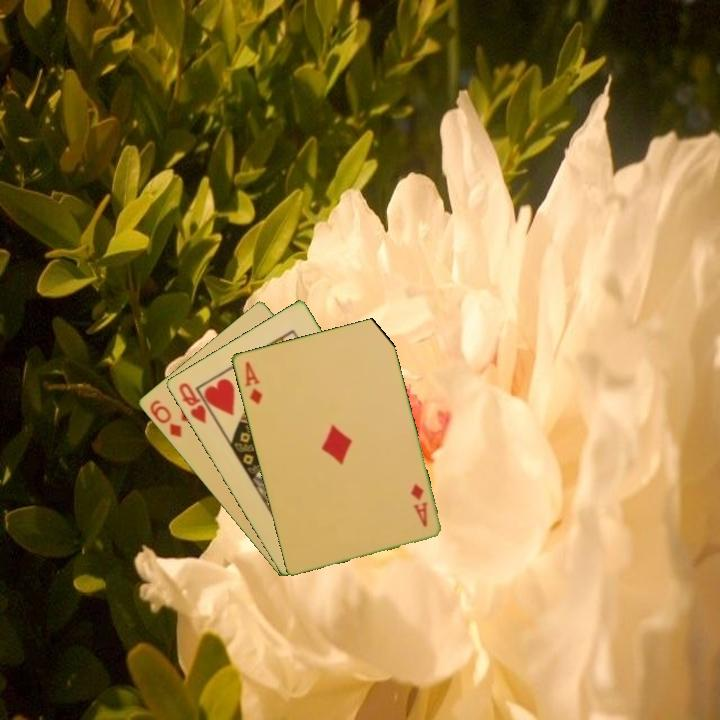6d: (145, 396, 184, 440)
Ad: (406, 479, 430, 530), (241, 357, 265, 407)
Qh: (175, 379, 209, 427)
